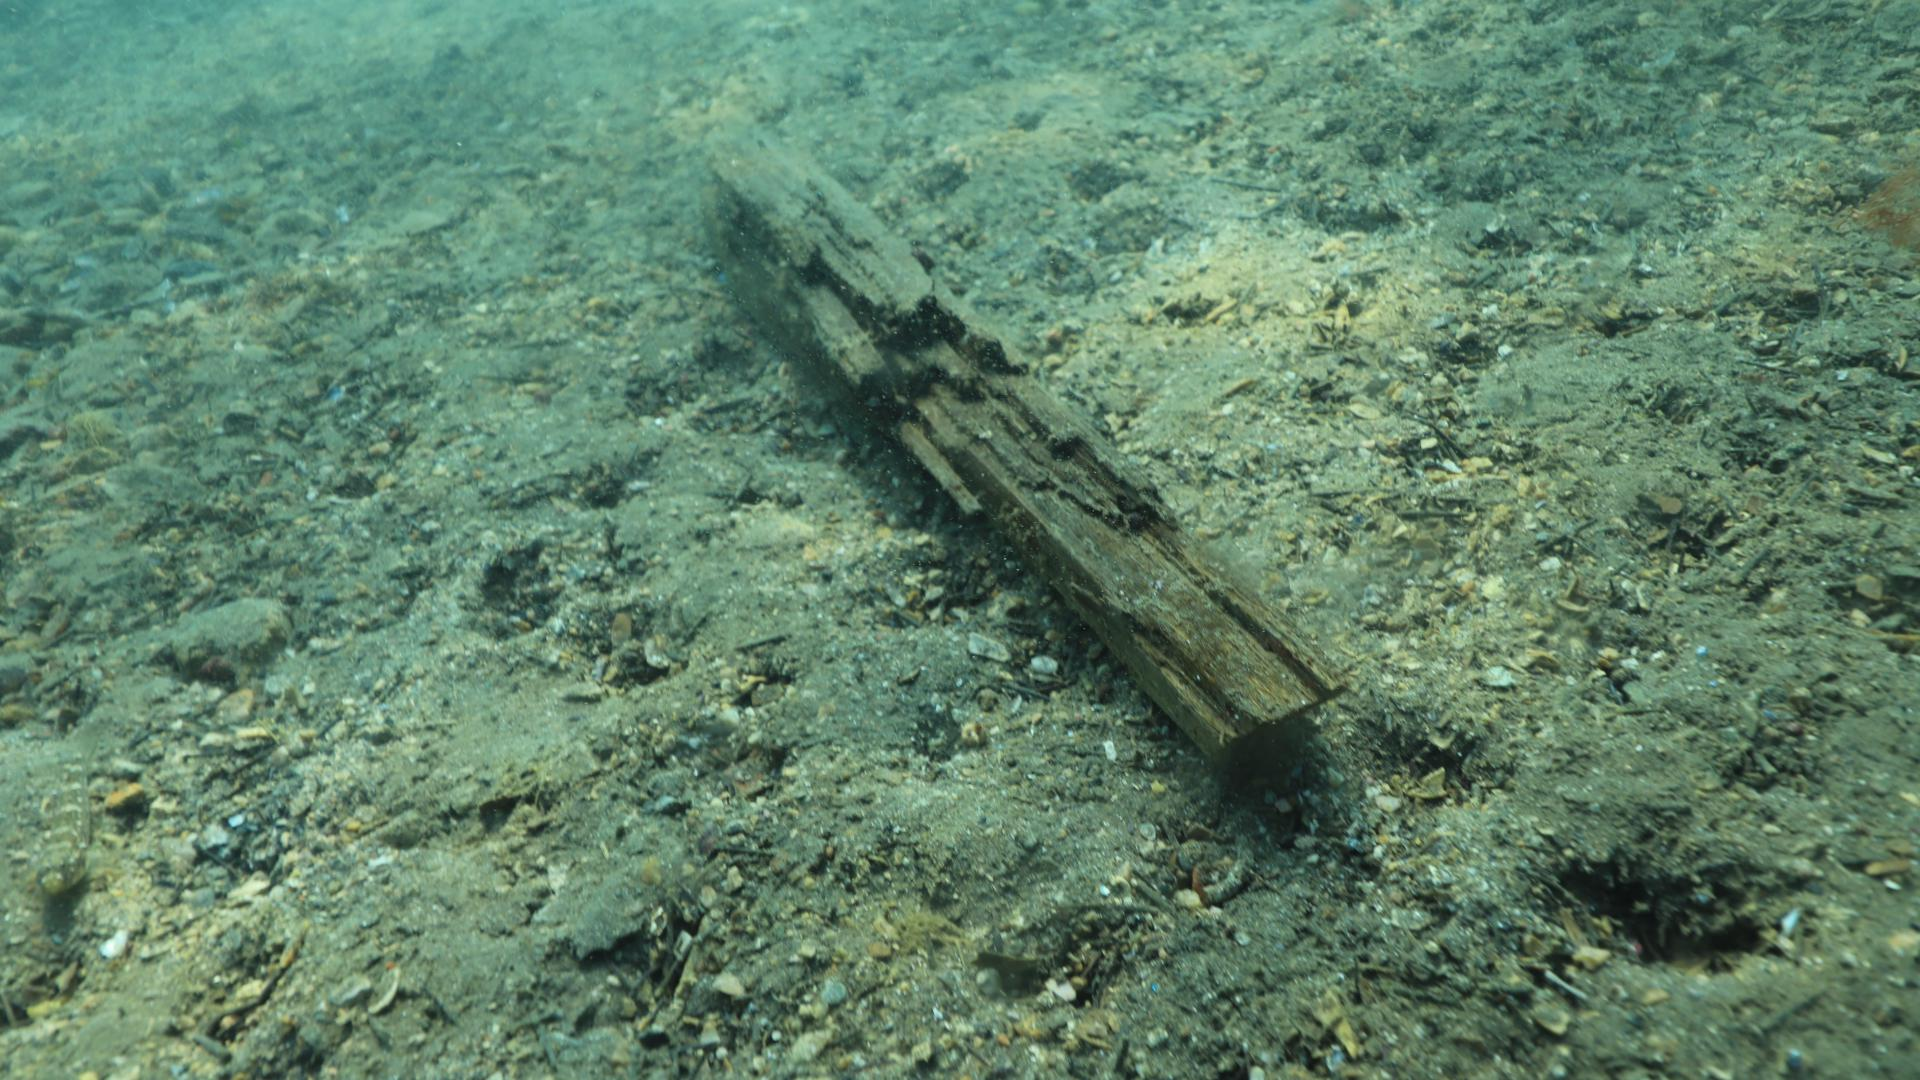wood: (698, 136, 1349, 757)
